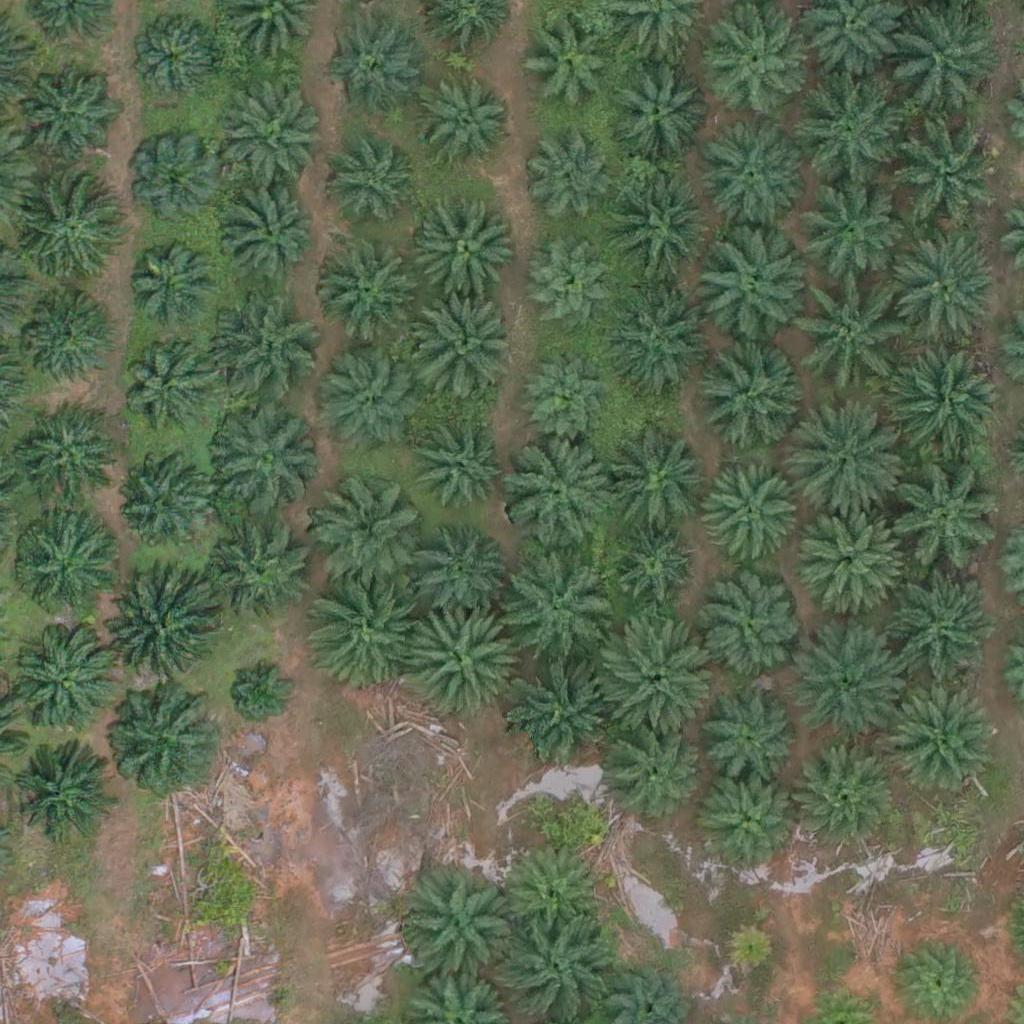Kelapa_Sawit: (794, 408, 907, 522), (892, 230, 1005, 343), (888, 349, 1001, 462), (881, 465, 994, 578), (688, 234, 801, 347), (496, 539, 609, 652), (509, 656, 622, 769), (403, 603, 516, 716), (308, 344, 421, 457), (308, 463, 421, 576), (300, 577, 413, 690), (403, 872, 516, 985), (205, 404, 318, 517), (104, 573, 217, 686), (880, 580, 992, 694), (884, 684, 996, 798), (786, 741, 898, 855), (499, 437, 611, 551), (309, 237, 421, 351), (12, 623, 124, 737), (603, 169, 715, 283), (218, 78, 330, 192), (794, 630, 906, 743), (794, 503, 906, 616), (801, 278, 913, 391), (686, 339, 798, 452), (604, 287, 716, 400), (601, 427, 713, 540), (601, 615, 713, 728), (412, 290, 524, 403), (212, 287, 324, 400), (106, 689, 218, 802), (885, 1, 997, 114), (890, 111, 1002, 224), (792, 166, 904, 279), (791, 75, 903, 188), (698, 122, 810, 235), (407, 191, 519, 304), (15, 182, 127, 295), (700, 465, 800, 566), (700, 577, 800, 678), (702, 686, 802, 787), (597, 725, 697, 826), (410, 522, 510, 623), (414, 409, 514, 510), (503, 842, 603, 943), (214, 523, 314, 624), (111, 455, 211, 556), (706, 17, 806, 118), (602, 61, 702, 162), (412, 69, 512, 170), (324, 138, 424, 239), (124, 130, 224, 231), (16, 70, 116, 171), (702, 772, 802, 872), (13, 742, 113, 842), (17, 413, 117, 513), (10, 514, 110, 614), (322, 28, 422, 128), (220, 185, 320, 285), (125, 9, 225, 109), (605, 523, 693, 611), (522, 353, 610, 441), (122, 342, 210, 430), (19, 296, 107, 384), (525, 18, 613, 106), (530, 138, 618, 226), (125, 239, 213, 327), (525, 243, 612, 331), (224, 652, 299, 727), (715, 920, 778, 983)
